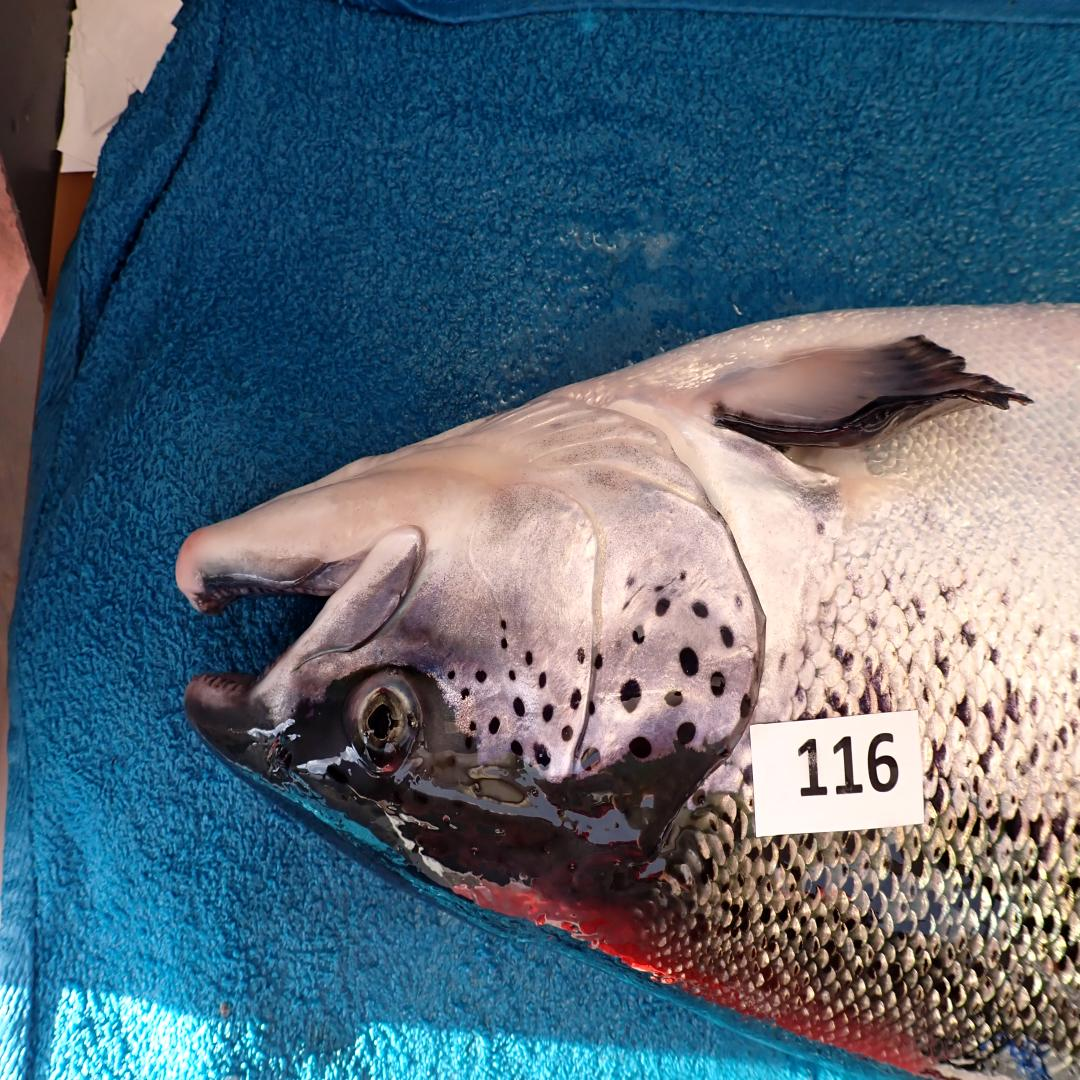roi: (423, 394, 767, 785)
